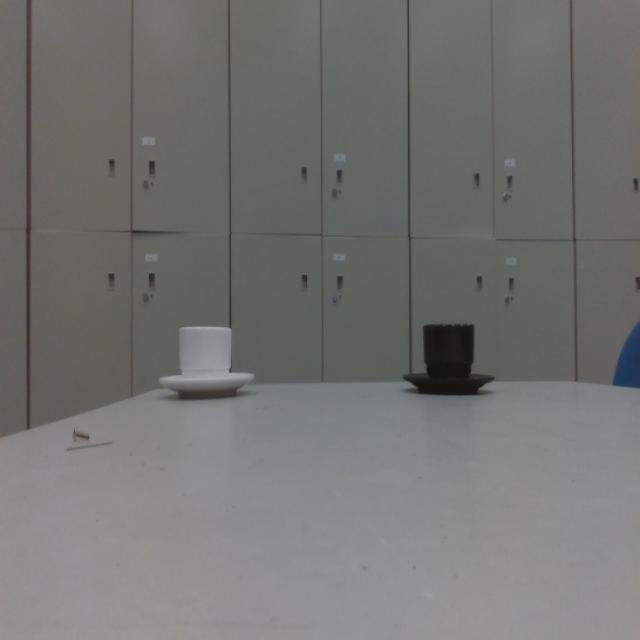black: (402, 321, 494, 398)
white: (158, 322, 255, 402)
